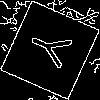Y: (25, 25, 82, 74)
